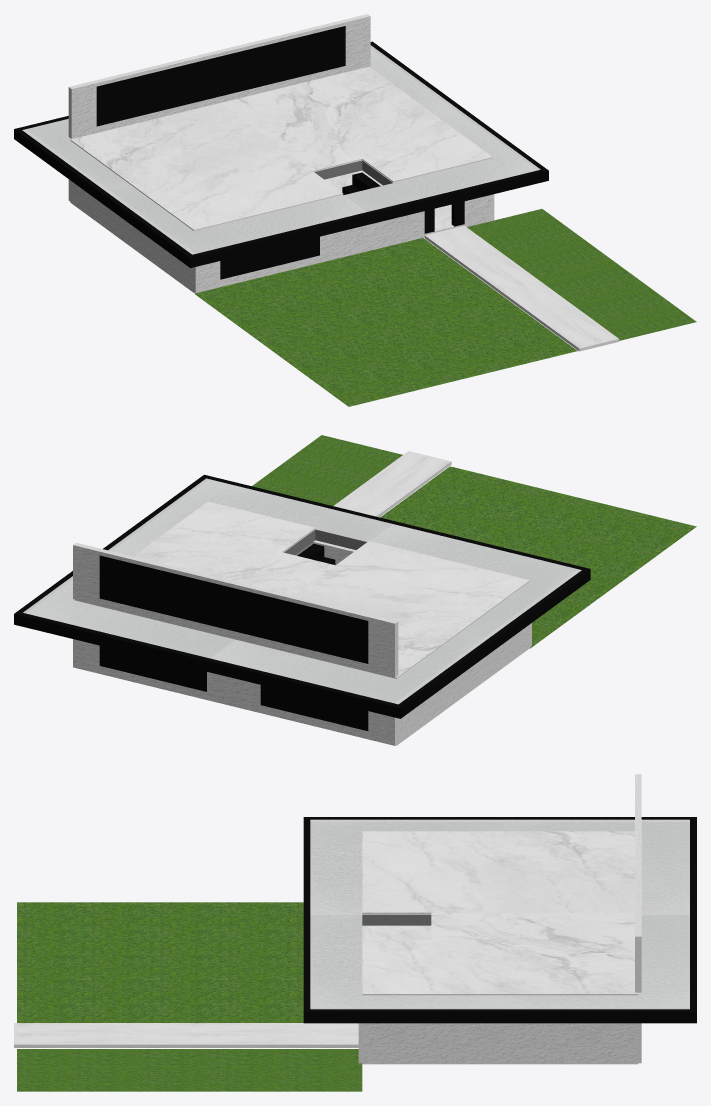
Rendered from cafeteria.obj.
The picture shows the model from 3 angles, top to bottom: view 1: azimuth 30°, elevation 25°; view 2: azimuth 150°, elevation 25°; view 3: azimuth 270°, elevation 25°; orthographic projection. The views are drawn at different scales.
Parts seen in each view (by area): view 1: Mesh; view 2: Mesh; view 3: Mesh.
Boxes of the visible parts, bbox=[...] form: Mesh: bbox=[14, 14, 696, 406]; Mesh: bbox=[14, 435, 696, 745]; Mesh: bbox=[14, 774, 696, 1091].
Bounding box in the file's own units: 9.37 × 2.72 × 13.15.
Materials: 22 (11 with a texture image).
